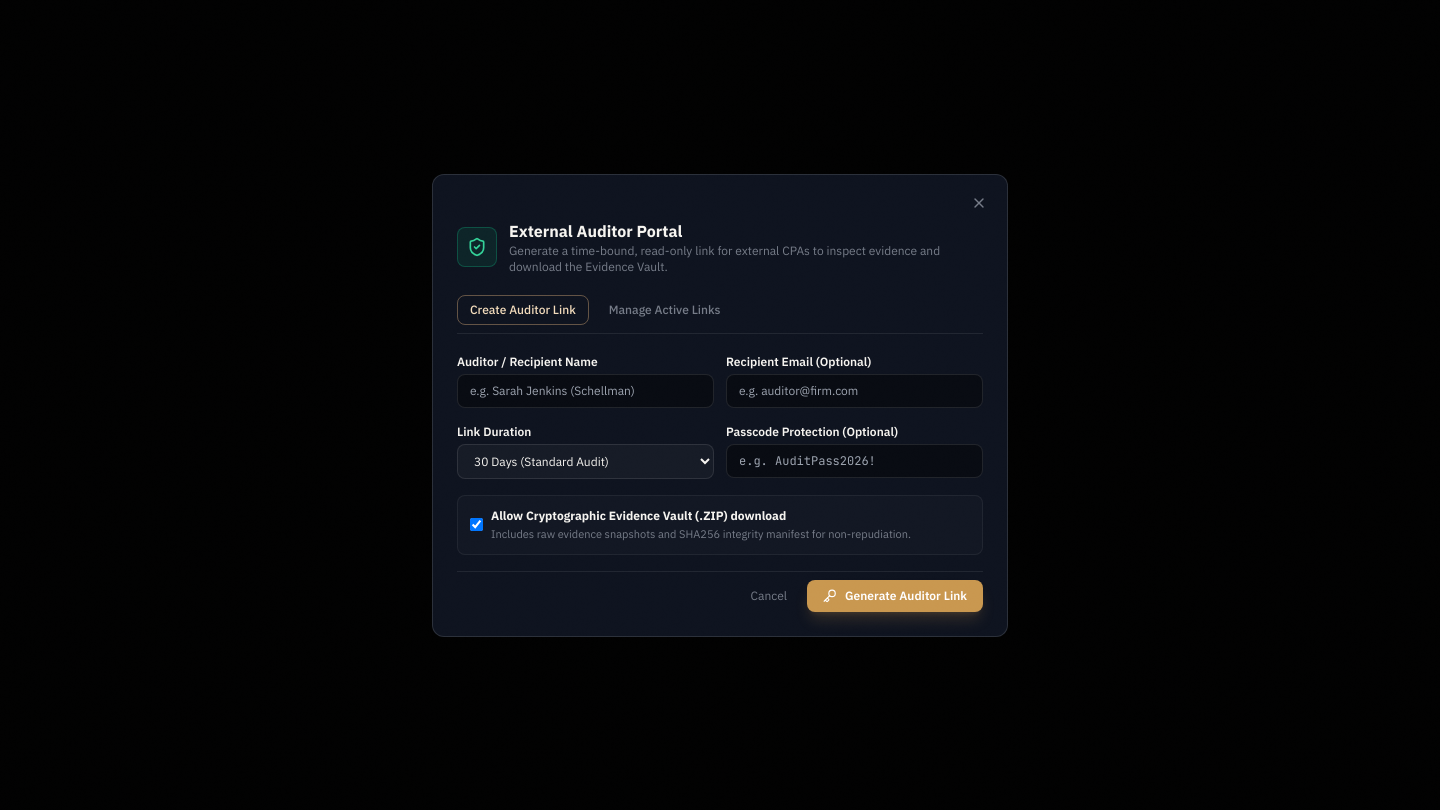
it: AuditorShareModal › switches to manage active links tab and revokes a link
The image size is (1440, 810).
// Switch to manage tab
Step 1. Click the button "Manage Active Links" → (664, 310), box left=597, top=296, right=732, bottom=324
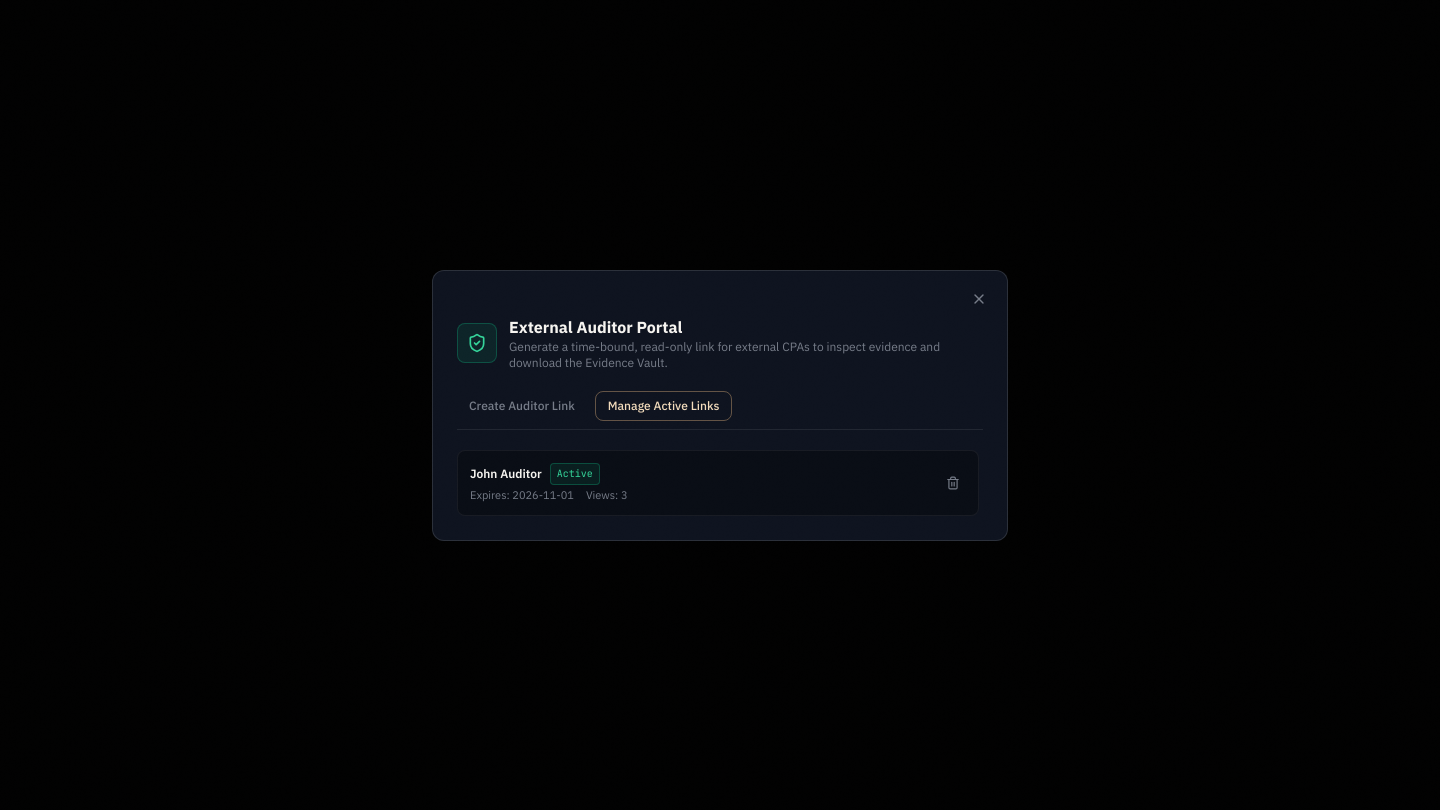
Result: the text "John Auditor" is shown at left=470, top=466, right=542, bottom=482
Result: the text "Views: 3" is shown at left=586, top=486, right=628, bottom=502
Result: the text "Active" is shown at left=550, top=462, right=600, bottom=484
// Click revoke button
Step 2. Click the button titled "Revoke link" → (953, 482), box left=940, top=470, right=966, bottom=496
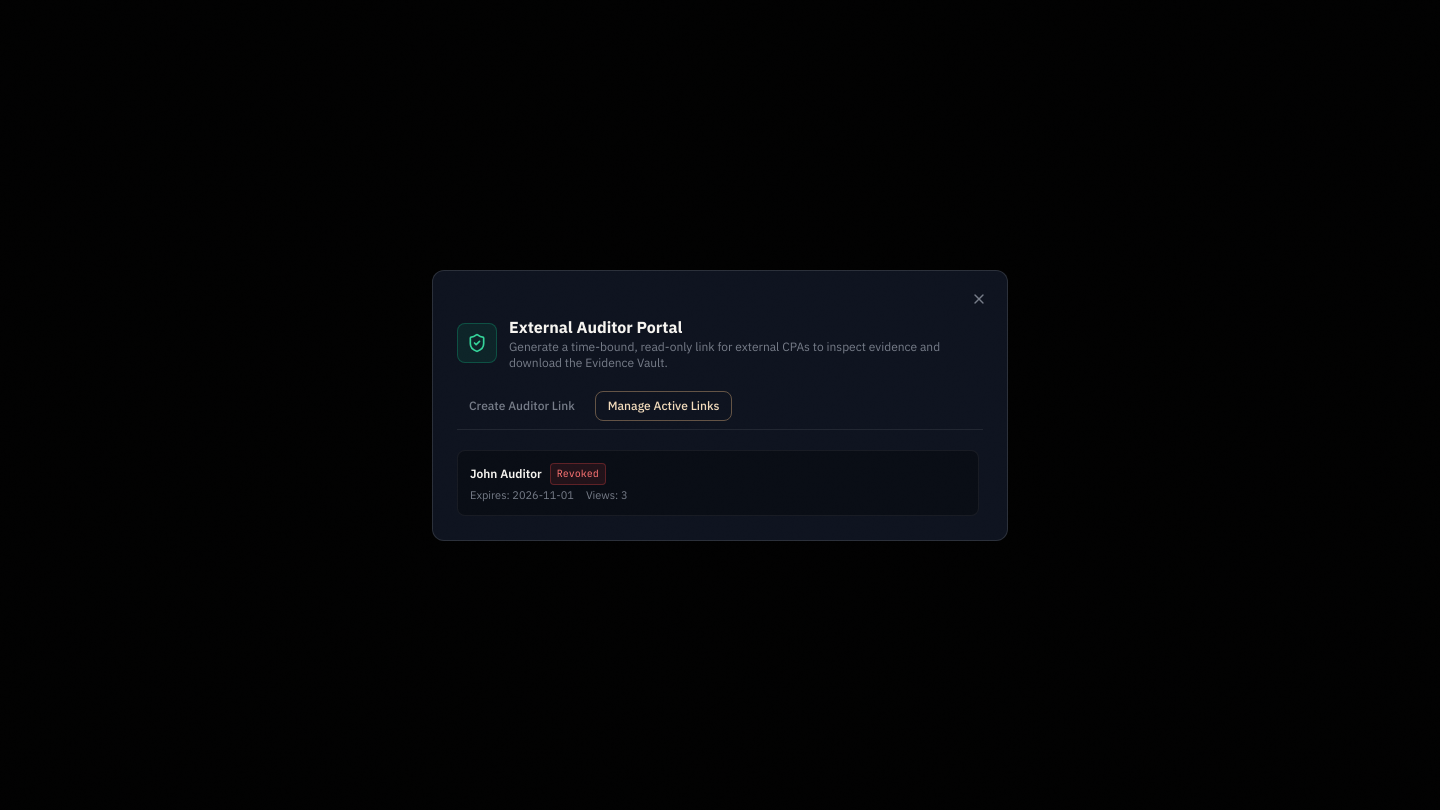
Result: the text "Revoked" is shown at left=550, top=462, right=606, bottom=484
